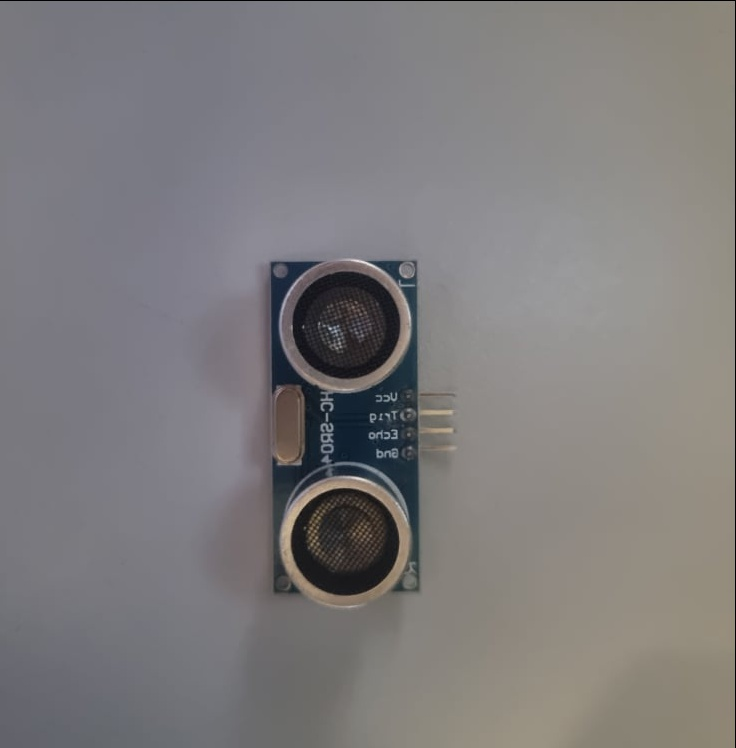SENSOR: (269, 254, 429, 609)
